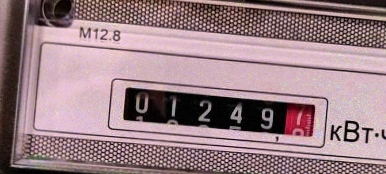0: (133, 88, 150, 114)
1: (165, 91, 179, 117)
2: (195, 98, 212, 124)
4: (228, 99, 244, 124)
7: (292, 100, 307, 127)
9: (257, 104, 274, 130)
screen: (106, 76, 330, 151)
